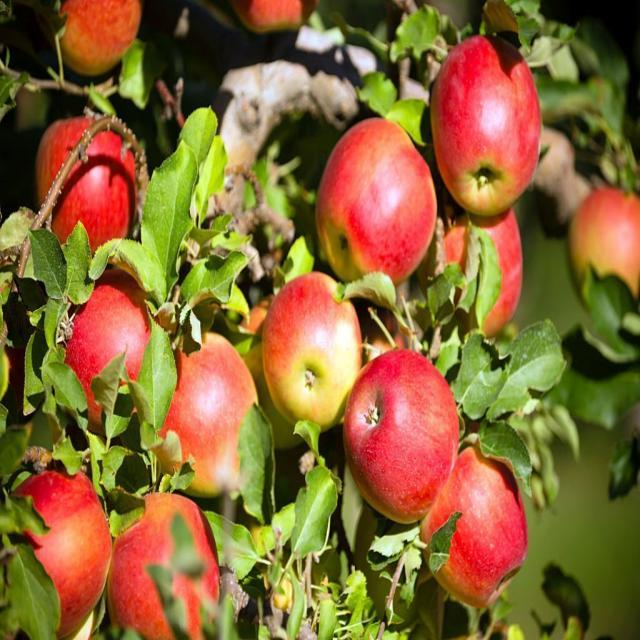Red Apple: (424, 430, 539, 607), (434, 28, 539, 213), (350, 351, 458, 528), (323, 105, 431, 280), (3, 455, 113, 625), (107, 486, 220, 636), (42, 101, 154, 244), (159, 324, 259, 481), (261, 273, 359, 430), (62, 266, 156, 414), (430, 188, 524, 331), (571, 175, 640, 312), (52, 1, 142, 77), (239, 1, 316, 42)
